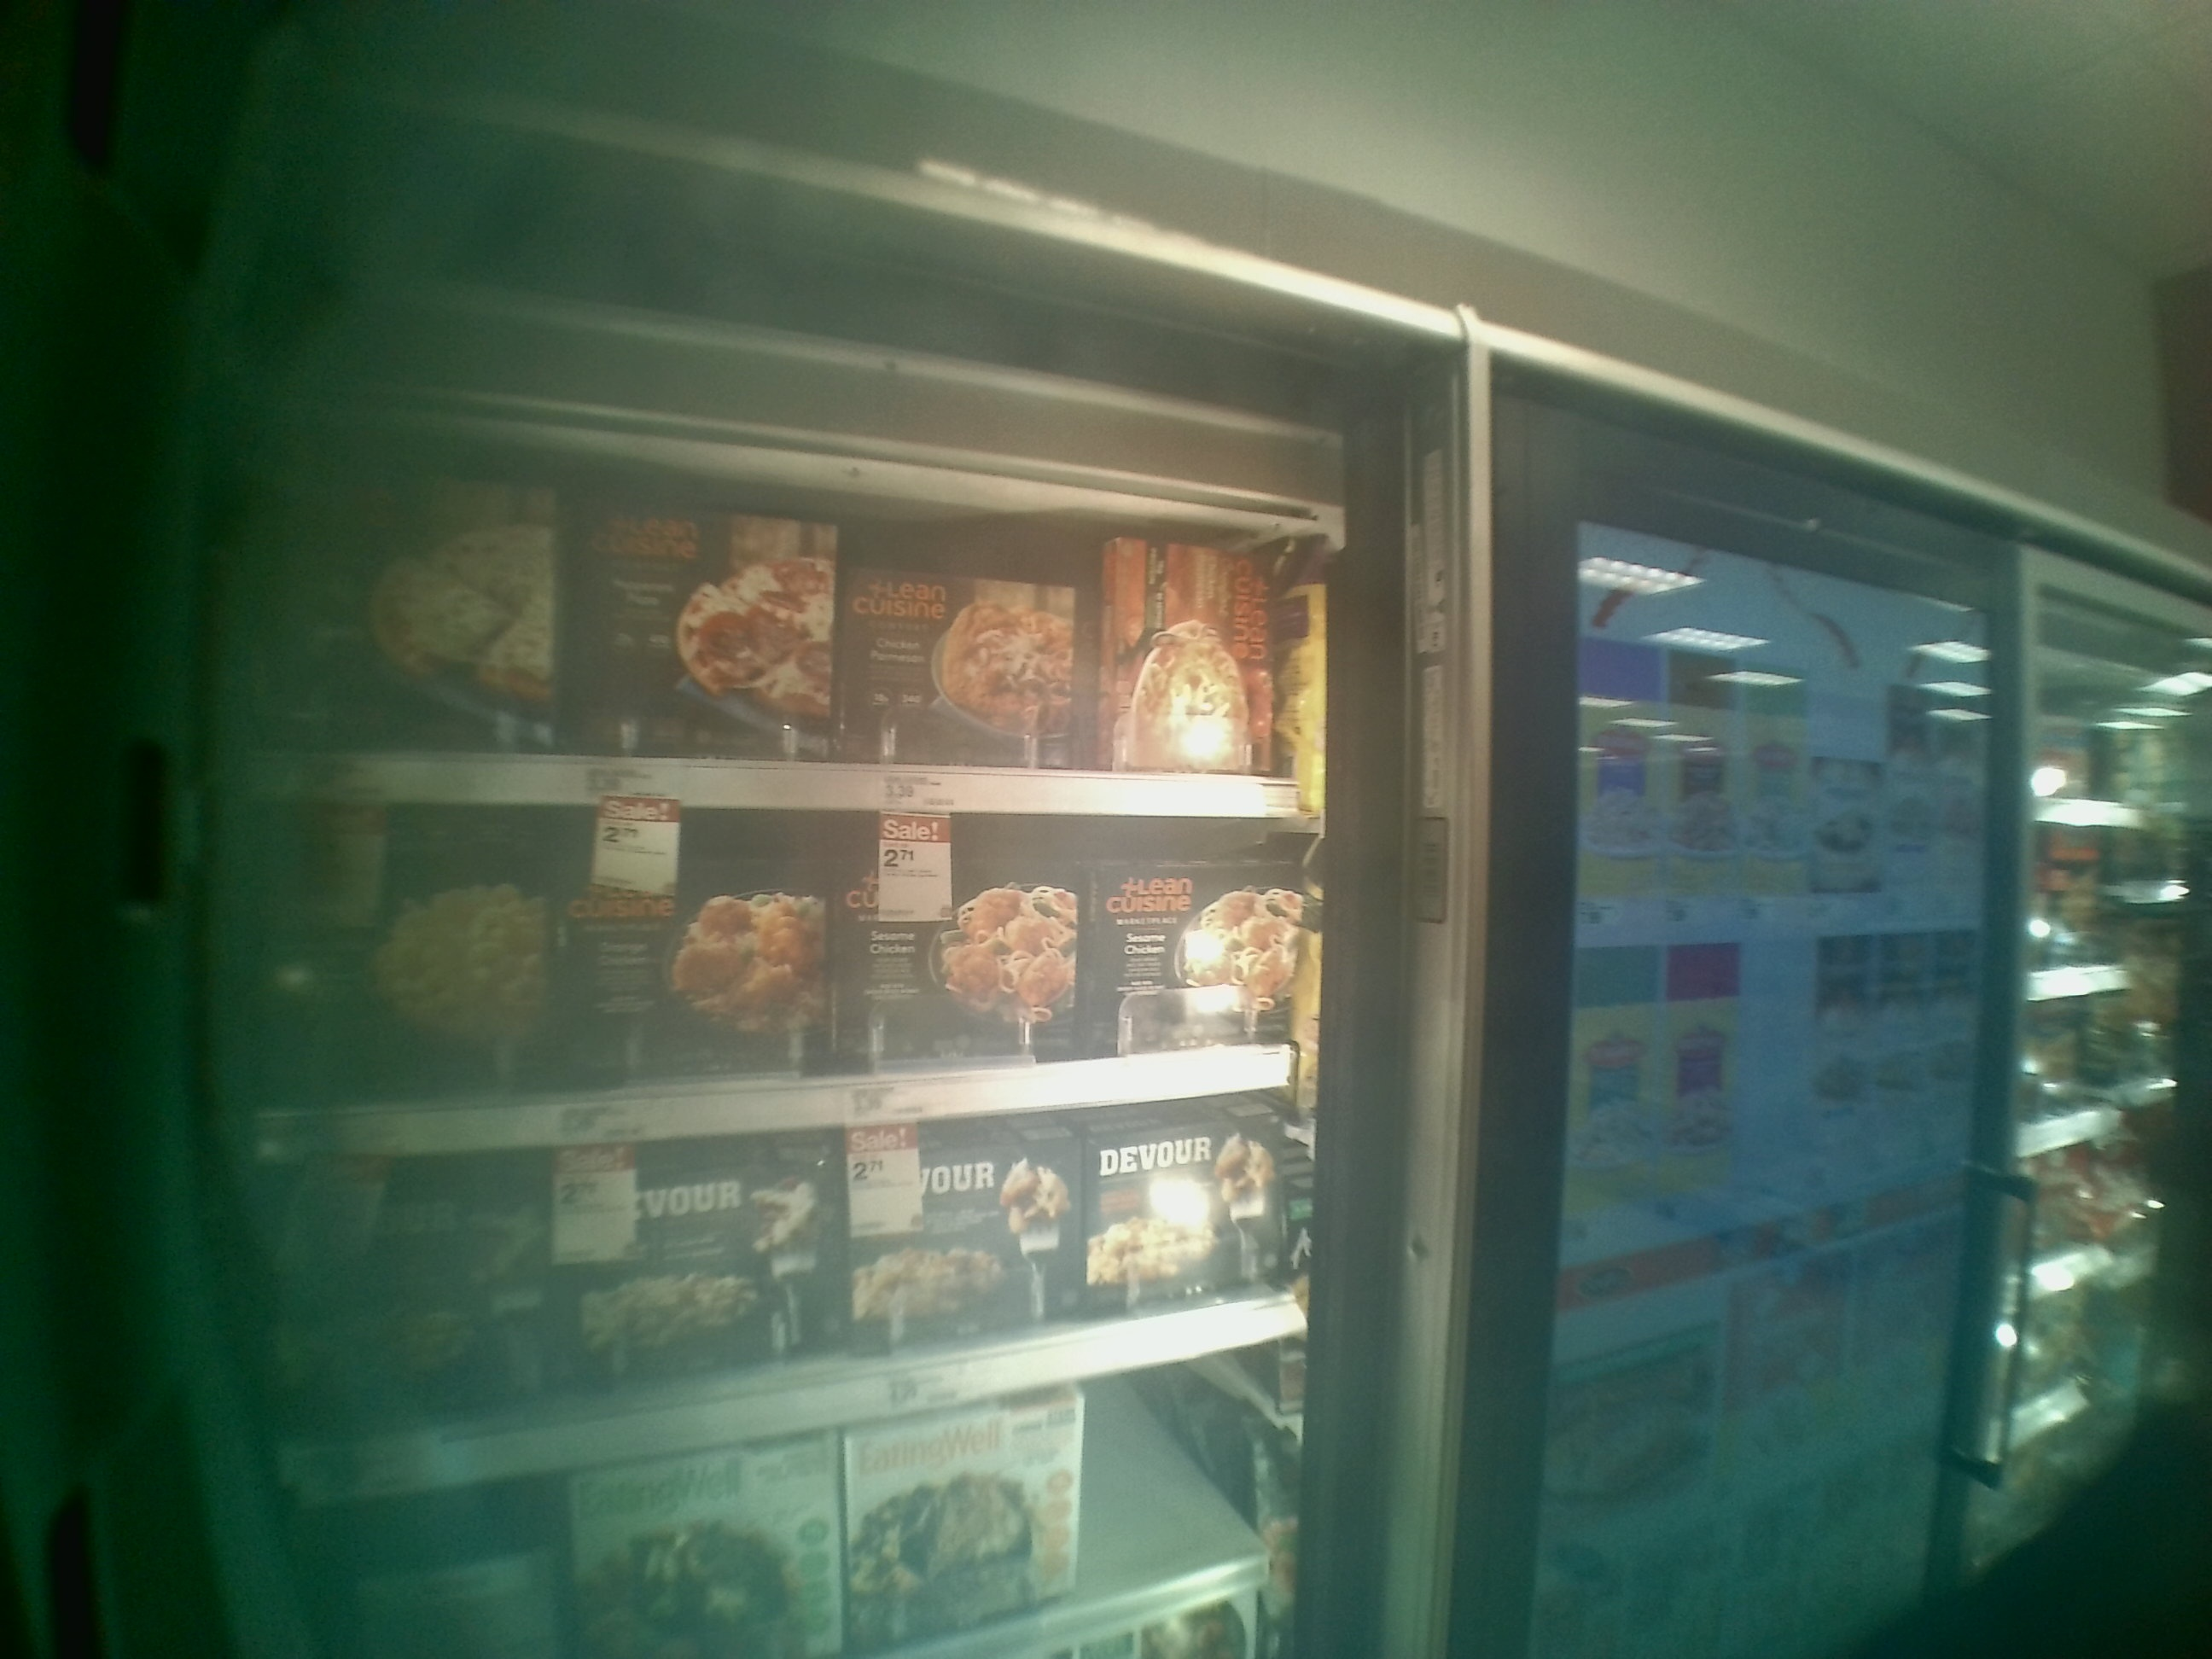shelf: (218, 397, 1310, 819), (258, 1080, 1315, 1513), (230, 807, 1334, 1166)
